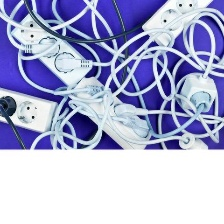three_eye_plug: (9, 6, 93, 89), (66, 77, 153, 153), (142, 0, 220, 50), (0, 84, 60, 137), (175, 69, 219, 119)
